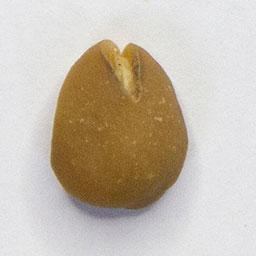defect: (45, 36, 192, 213)
